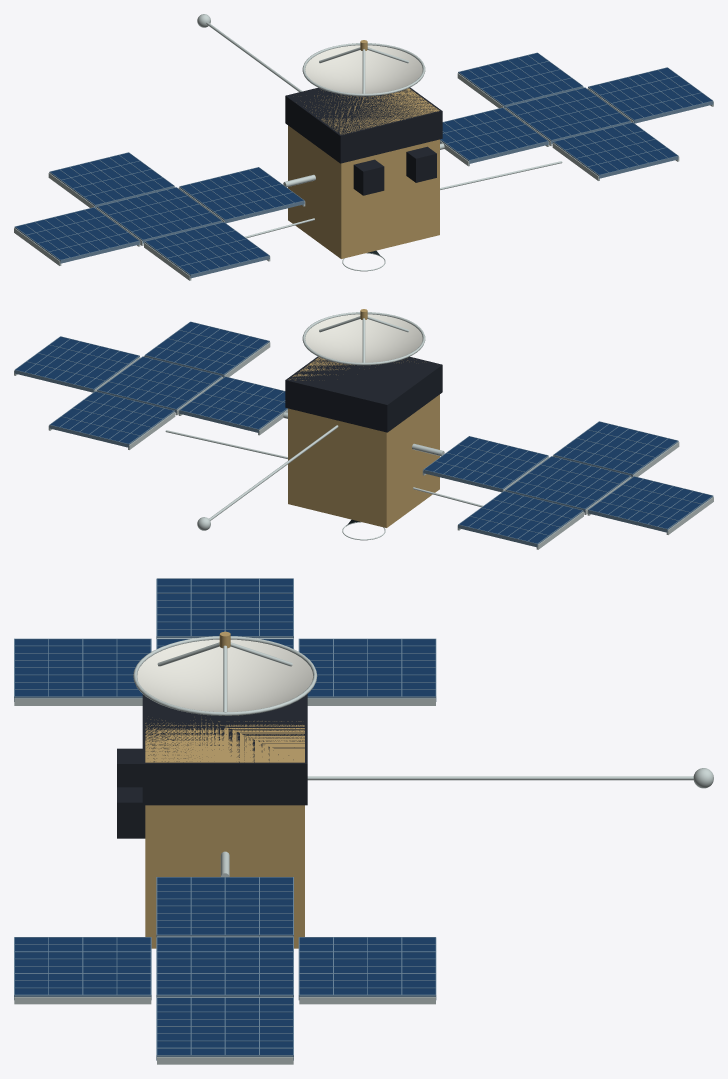
Rendered from juice.glb.
3 renders of one model, top to bottom at view 1: azimuth 30°, elevation 25°; view 2: azimuth 150°, elevation 25°; view 3: azimuth 270°, elevation 25°, orthographic. The views are drawn at different scales.
Visible parts, largest first — view 1: photovoltaic-panel (×10), body, solar (×10), reflector, instruments, antenna; view 2: photovoltaic-panel (×10), body, solar (×10), reflector, antenna, instruments; view 3: photovoltaic-panel (×8), body, solar (×8), reflector, instruments, antenna.
Boxes of the visible parts, x1,y1,x2,y2 form: photovoltaic-panel (×10): [16, 53, 712, 274]; body: [285, 87, 442, 258]; solar (×10): [14, 52, 713, 280]; reflector: [305, 45, 422, 93]; instruments: [197, 14, 562, 238]; antenna: [302, 40, 425, 96]; photovoltaic-panel (×10): [16, 322, 711, 543]; body: [285, 356, 442, 527]; solar (×10): [14, 321, 713, 549]; reflector: [305, 314, 422, 362]; antenna: [302, 309, 425, 365]; instruments: [165, 425, 483, 530]; photovoltaic-panel (×8): [15, 579, 435, 1054]; body: [142, 694, 307, 948]; solar (×8): [14, 578, 436, 1064]; reflector: [137, 639, 312, 711]; instruments: [117, 748, 713, 838]; antenna: [133, 631, 317, 715].
Bounding box in the file's own units: 9.93 × 3.2 × 6.14.
